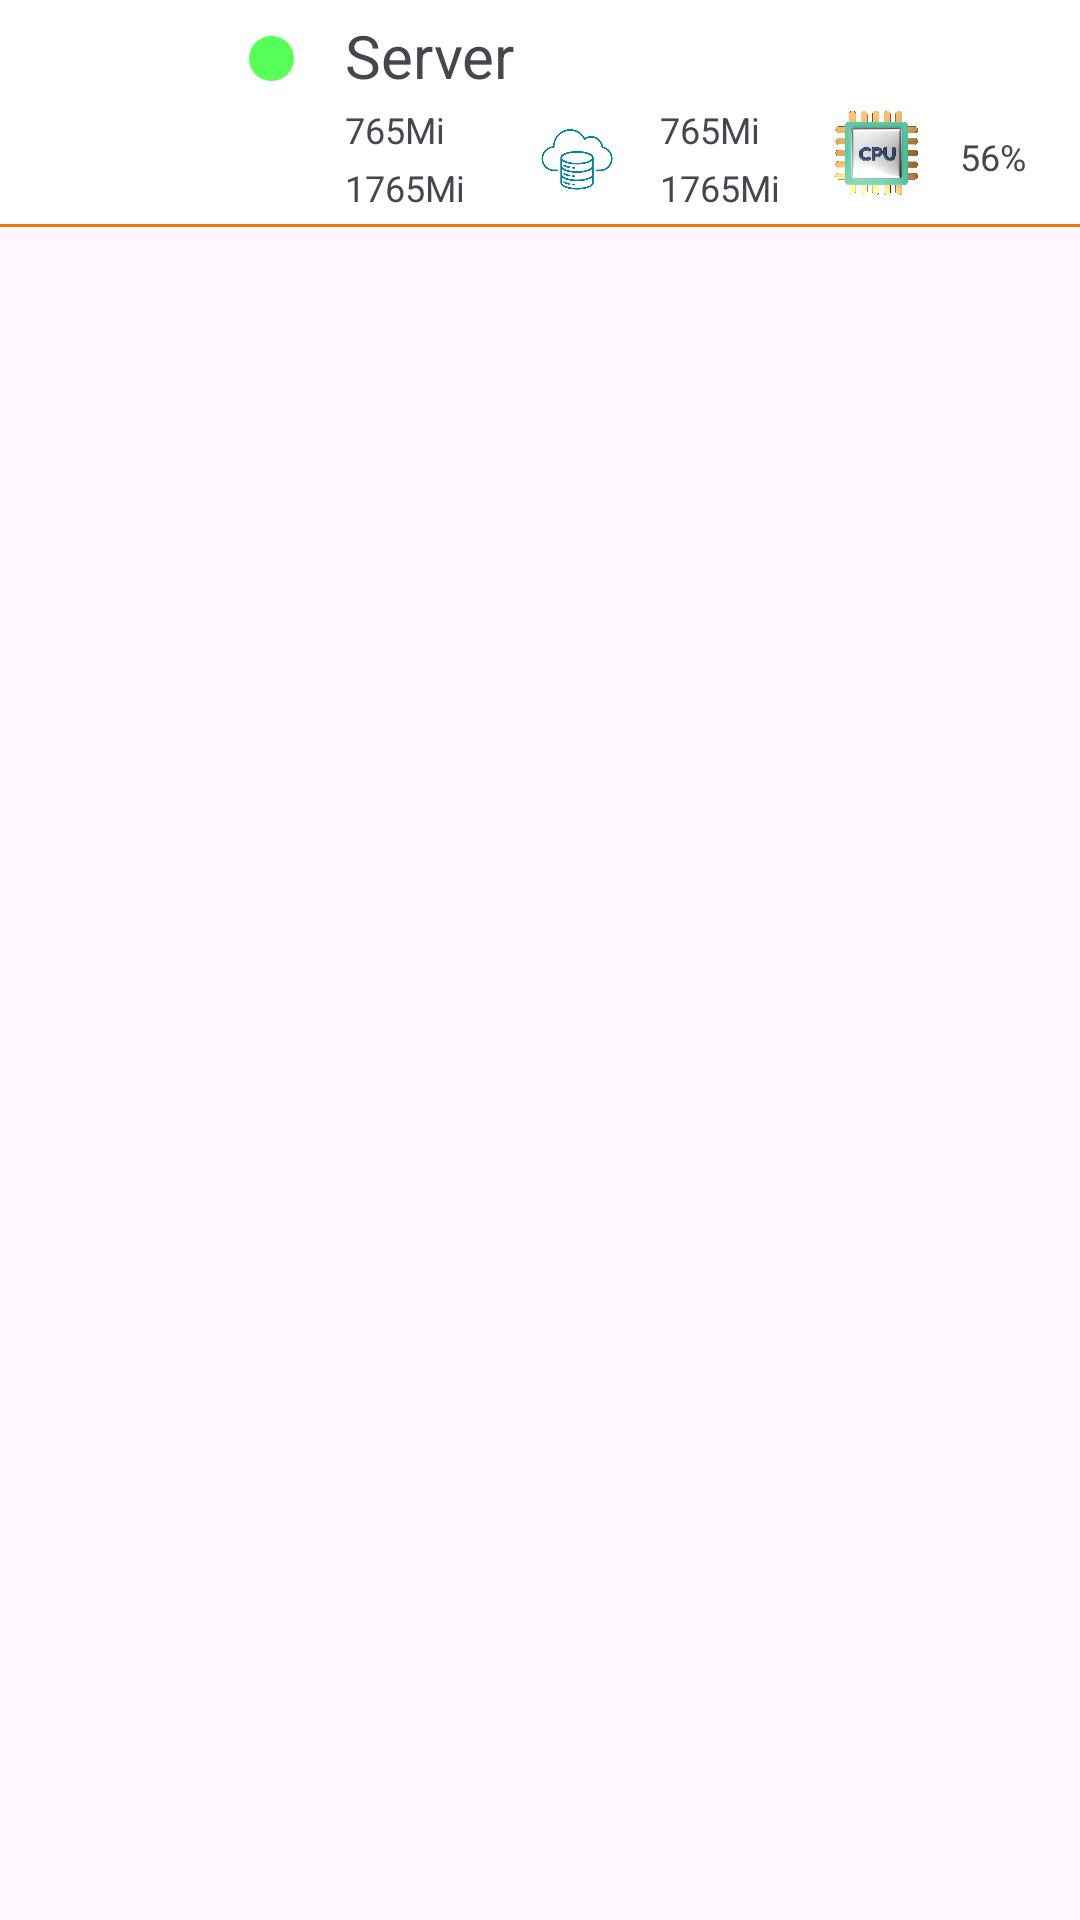

Icon bounding boxes for this 1080x1920 phone screenshot, format (x1, y1, x2, y2):
disk: (541, 129, 613, 190)
